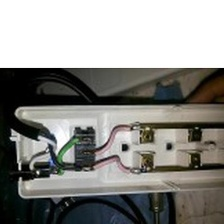three_eye_plug: (7, 99, 224, 204)
